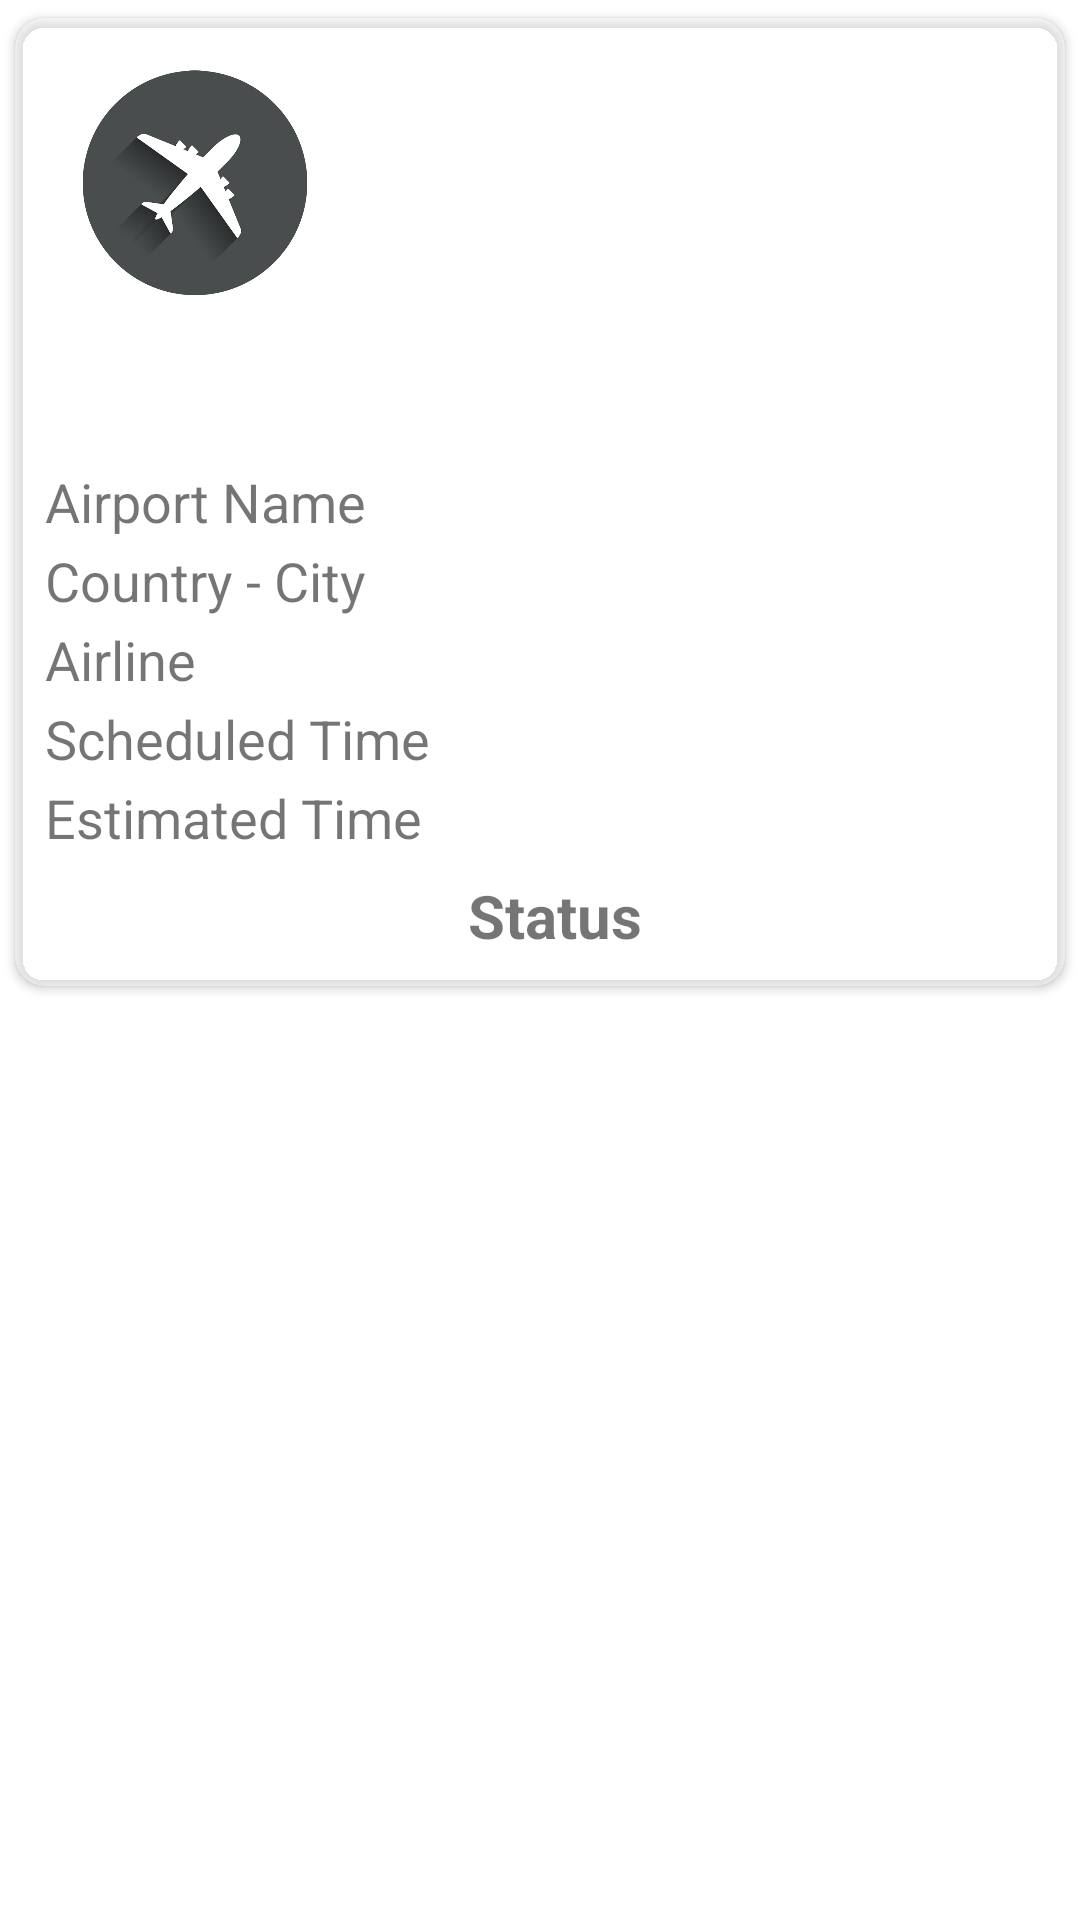

Named icons in this screenshot (1080*1920) and their bounding boxes, (x1, y1, x2, y2):
generalairlien: (83, 70, 307, 295)
